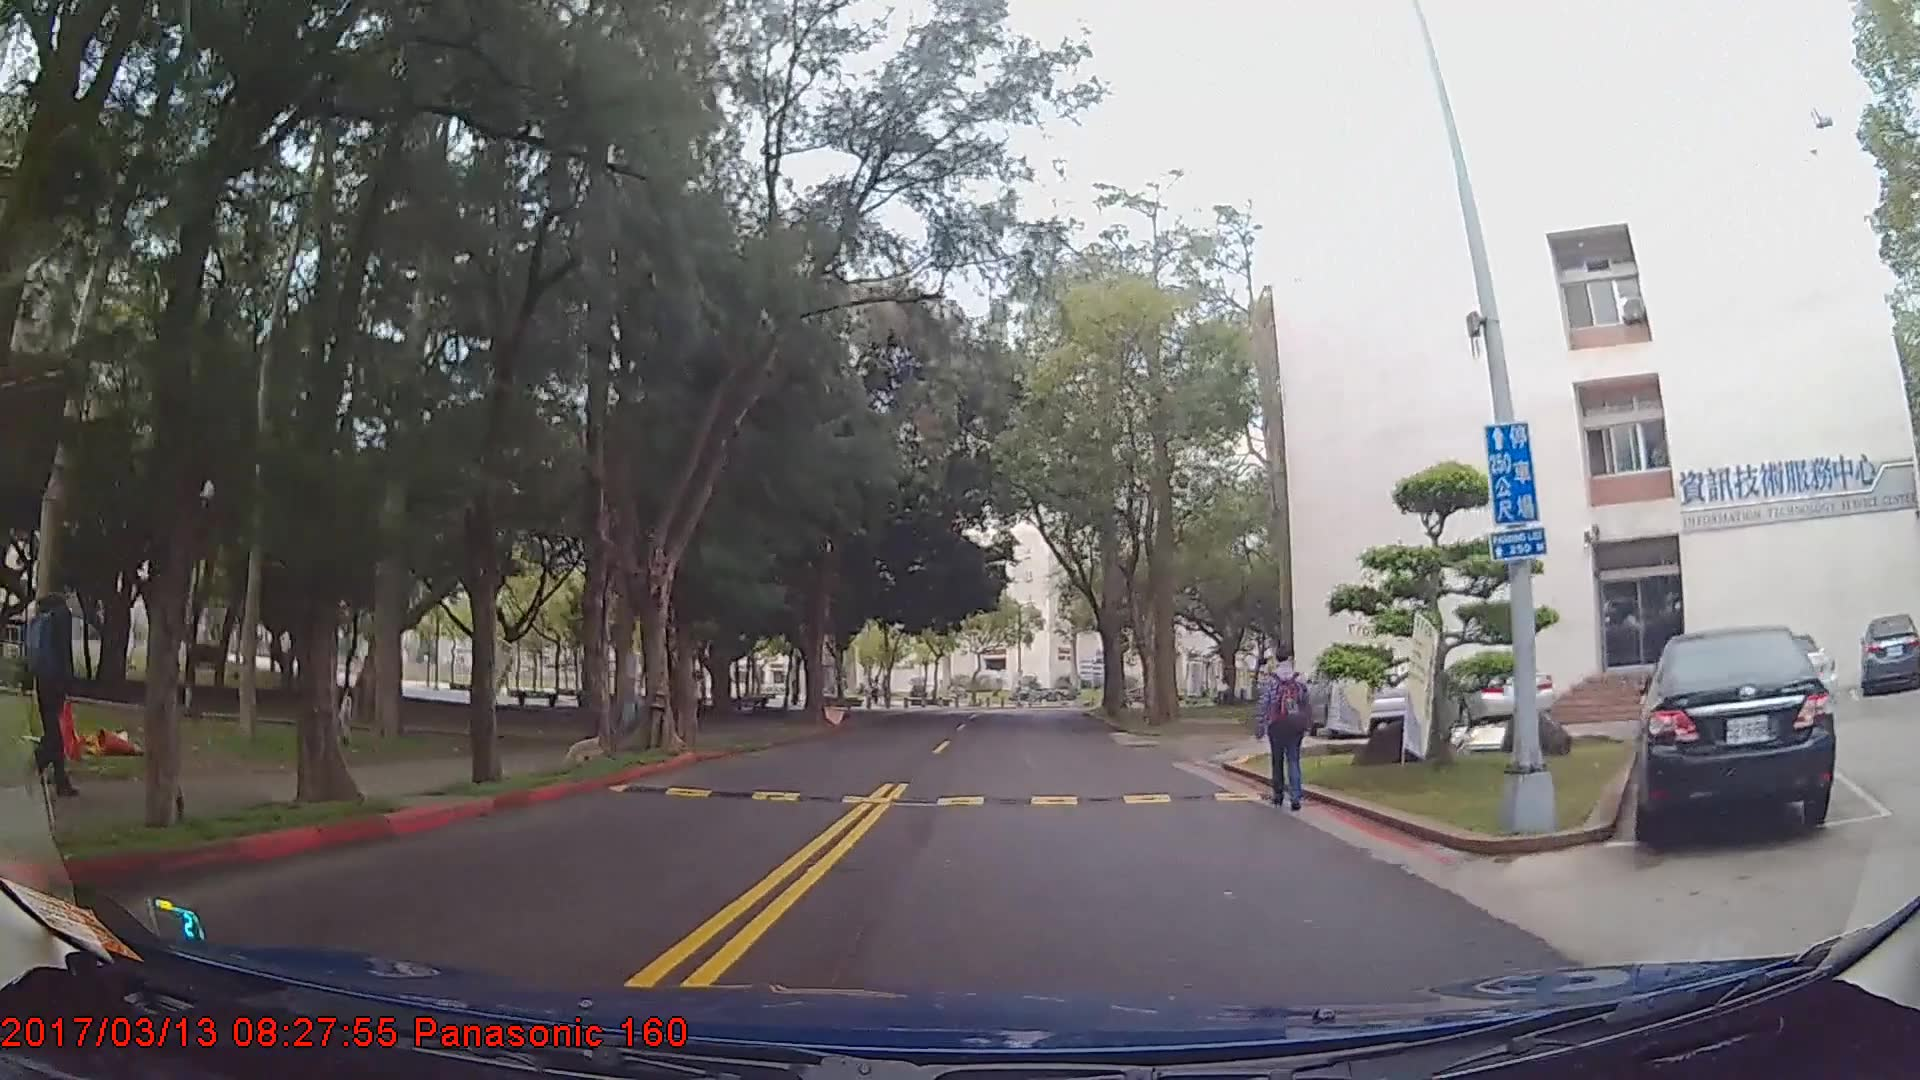pedestrian: (18, 549, 103, 807), (1255, 644, 1328, 817)
vehicle: (1629, 623, 1837, 847), (1858, 613, 1920, 695)
